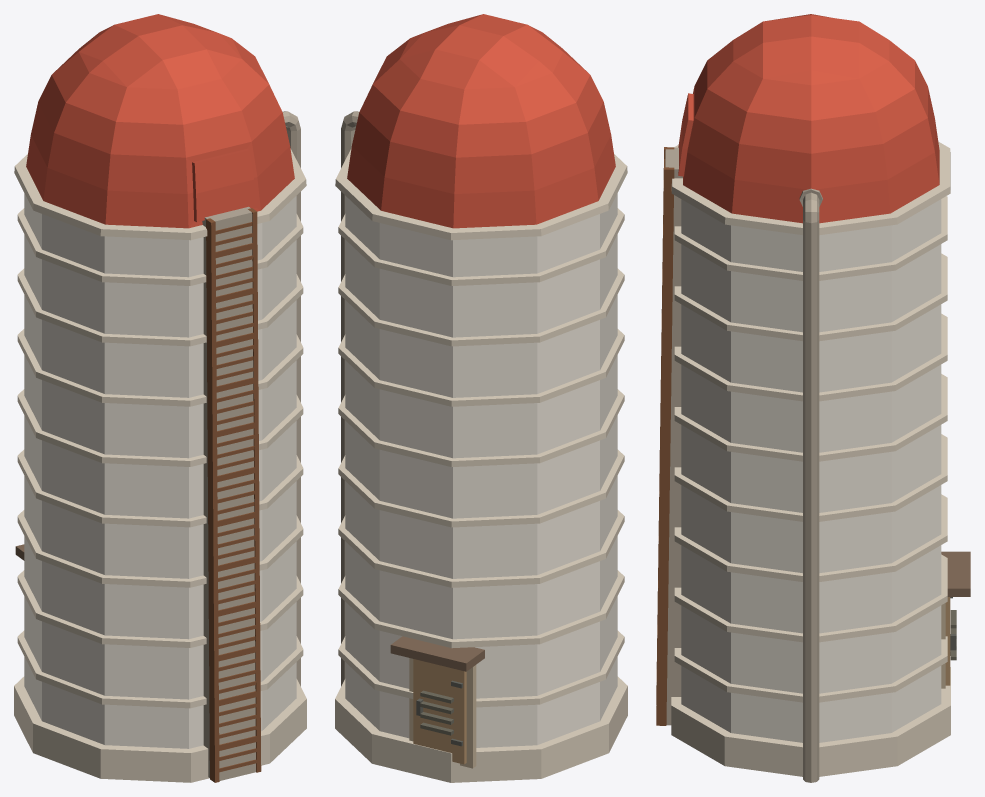
The model's file is climbable-silo.glb.
3 renders of one model, left to right at view 1: azimuth 30°, elevation 25°; view 2: azimuth 150°, elevation 25°; view 3: azimuth 270°, elevation 25°, orthographic.
Parts seen in each view (by area): view 1: Silo_Cylinder.007; view 2: Silo_Cylinder.007, Feed_hatch; view 3: Silo_Cylinder.007, Feed_hatch.
Part boxes in pixels (x1=…): Silo_Cylinder.007: x1=14, y1=14, x2=306, y2=782; Silo_Cylinder.007: x1=335, y1=14, x2=627, y2=782; Feed_hatch: x1=390, y1=636, x2=484, y2=768; Silo_Cylinder.007: x1=656, y1=14, x2=950, y2=782; Feed_hatch: x1=941, y1=551, x2=970, y2=688.
Size of the model in its own units: 3.67 by 9.07 by 3.75.
